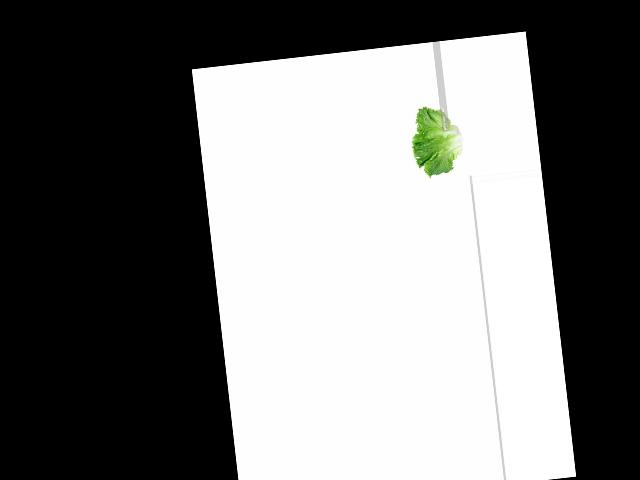lettuce: (409, 105, 467, 178)
